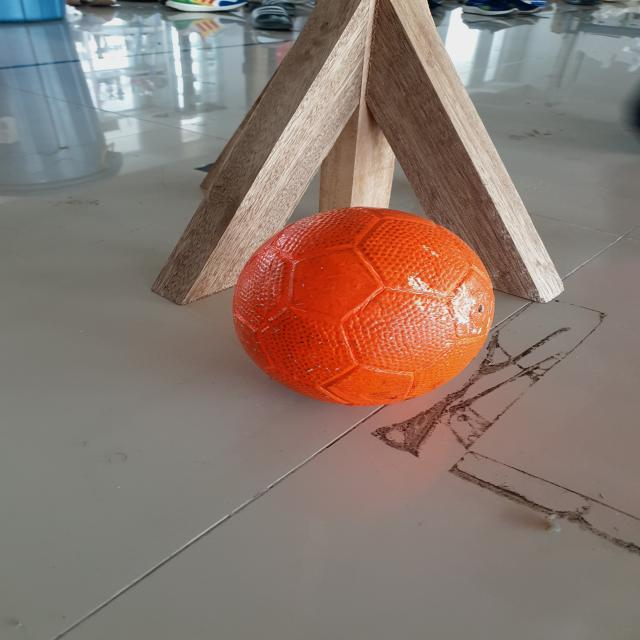bola: (226, 191, 507, 412)
